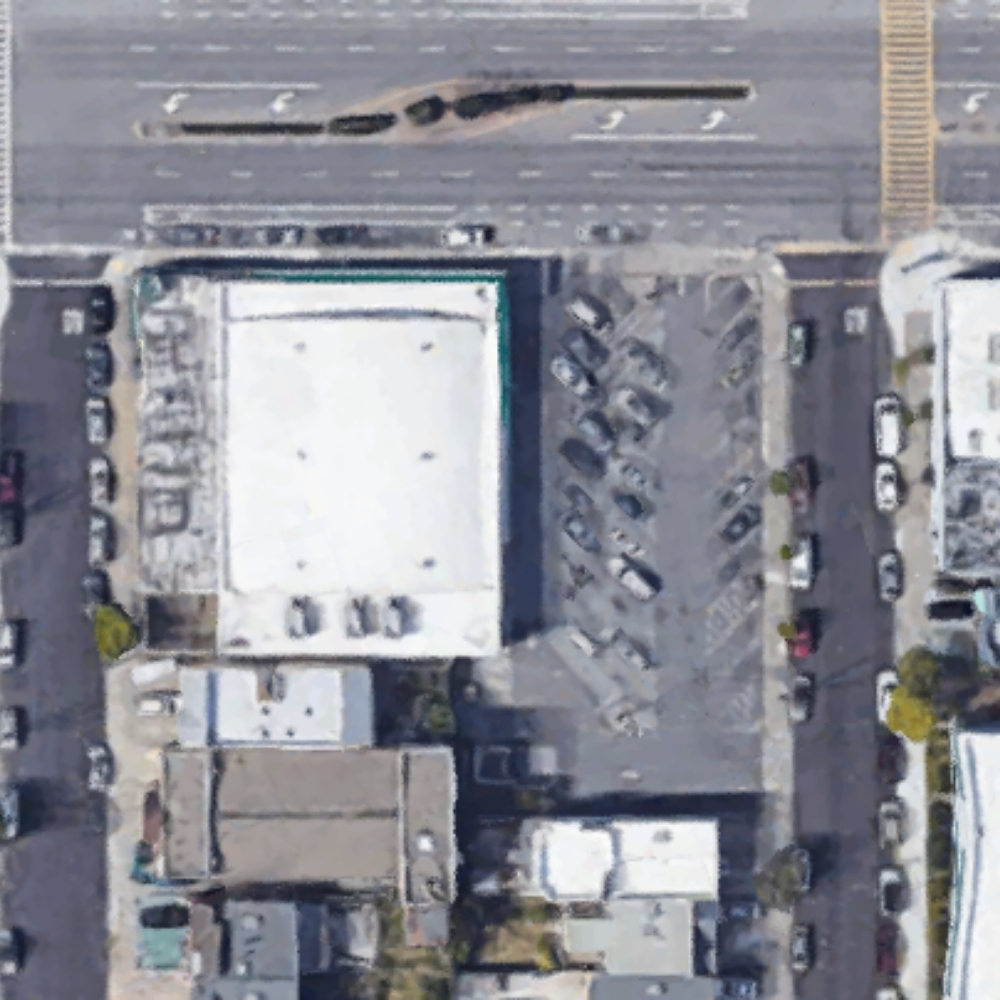parking: (505, 275, 765, 815)
